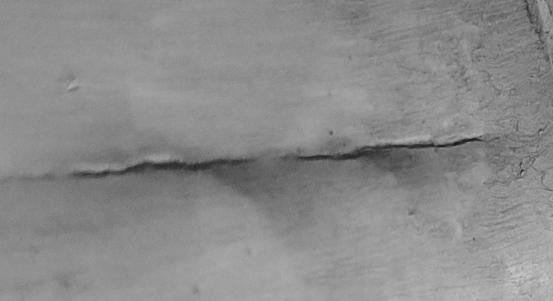scratch: (1, 1, 553, 301)
